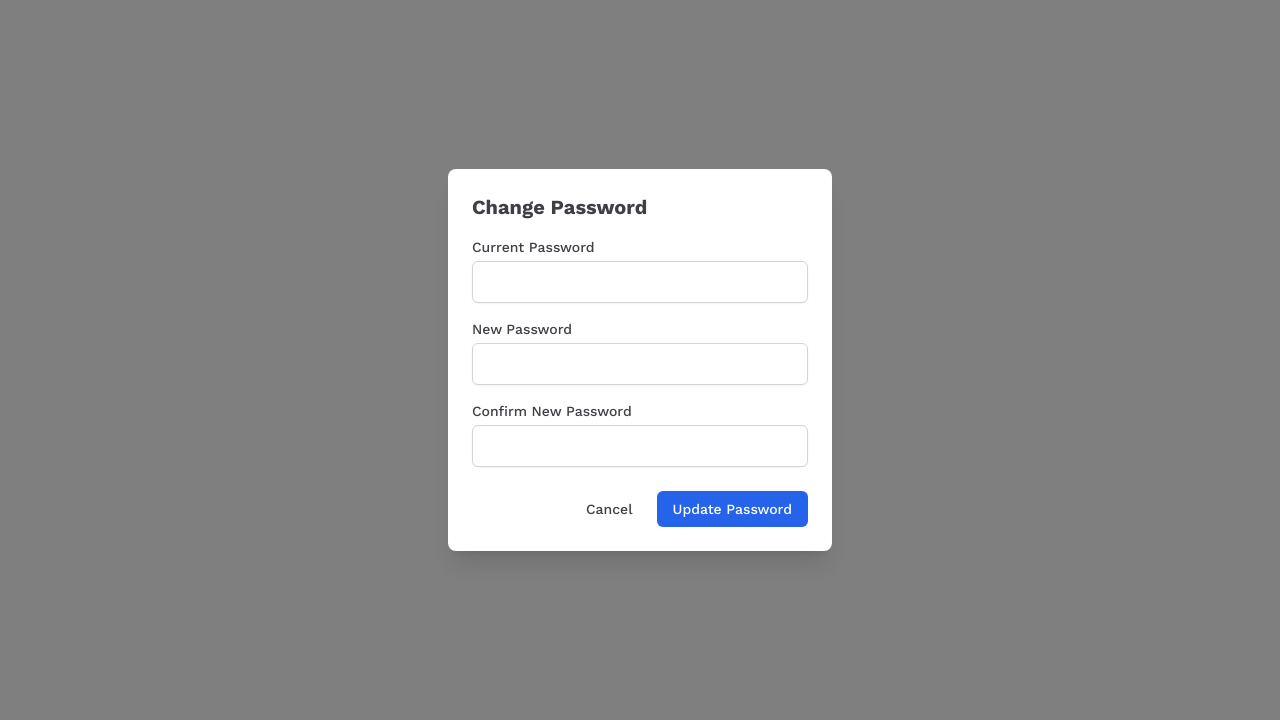
Test: PasswordChangeModal › validates password match
Type "current123" into the password field below "Current Password" at coordinates (640, 282), box [472,261,808,303]
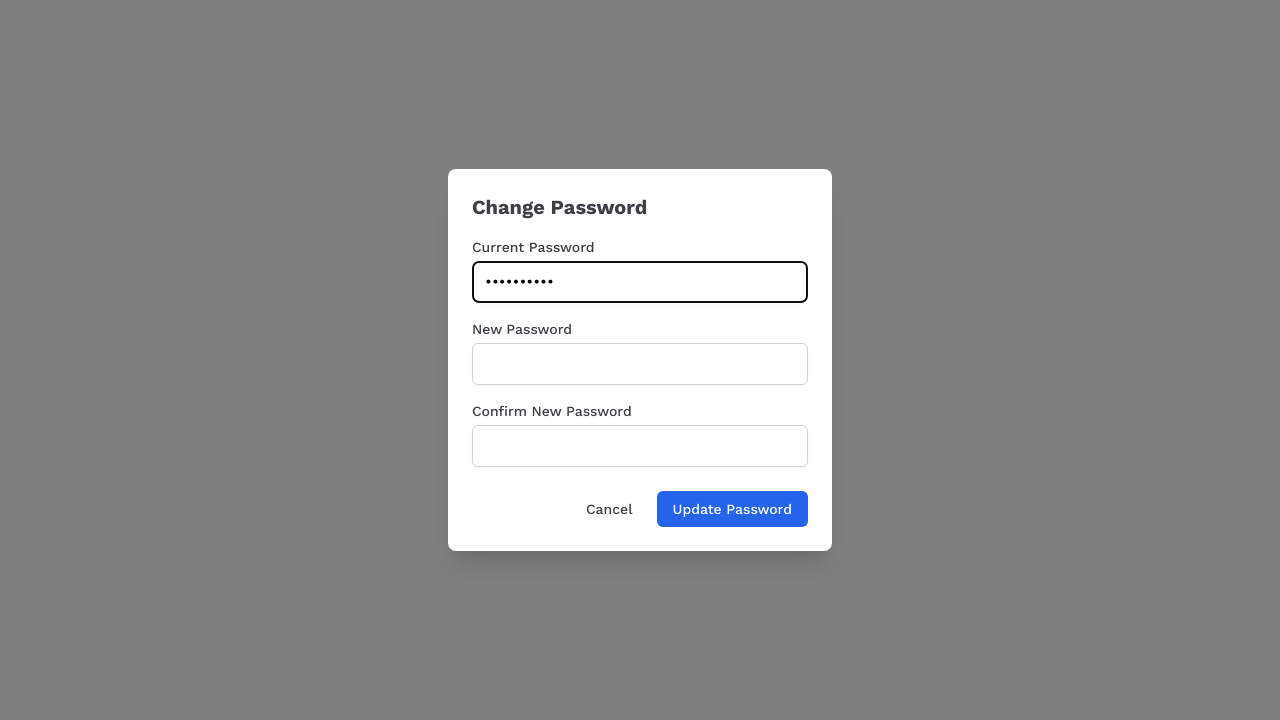
Type "new123" into the 2nd password field at coordinates (640, 364), box [472,343,808,385]
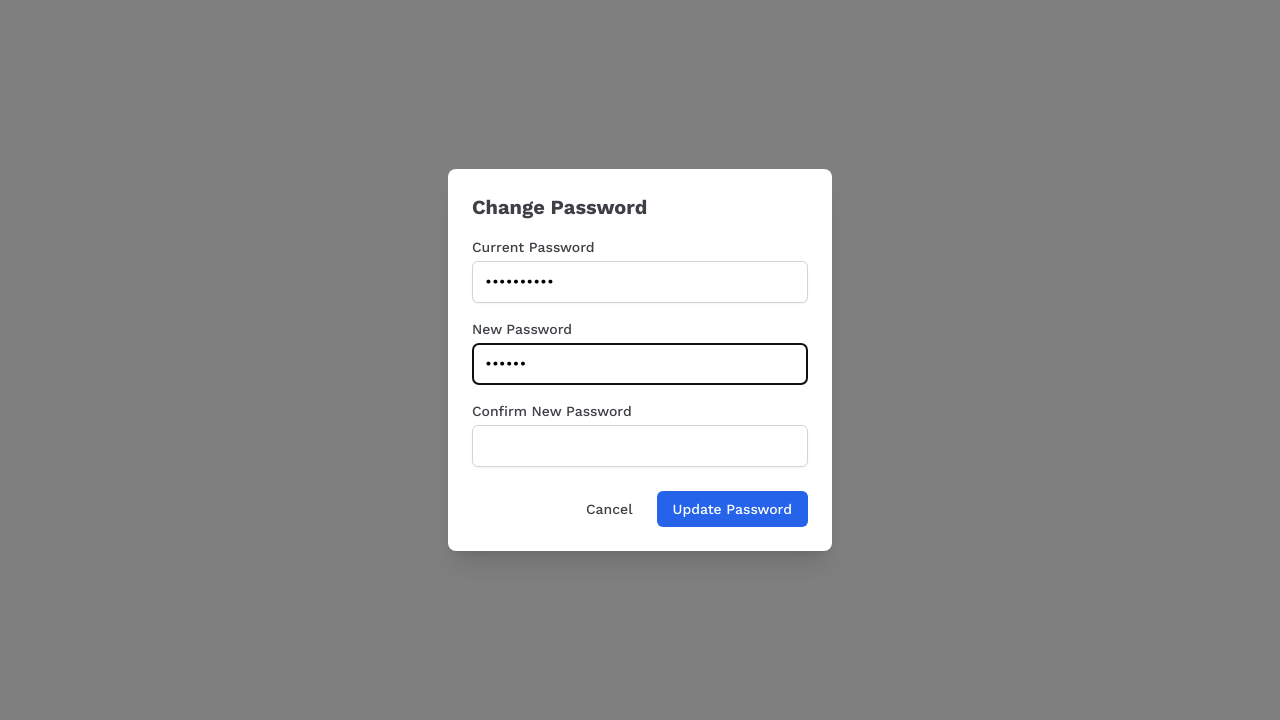
Type "different" into the password field below "Confirm New Password" at coordinates (640, 446), box [472,425,808,467]
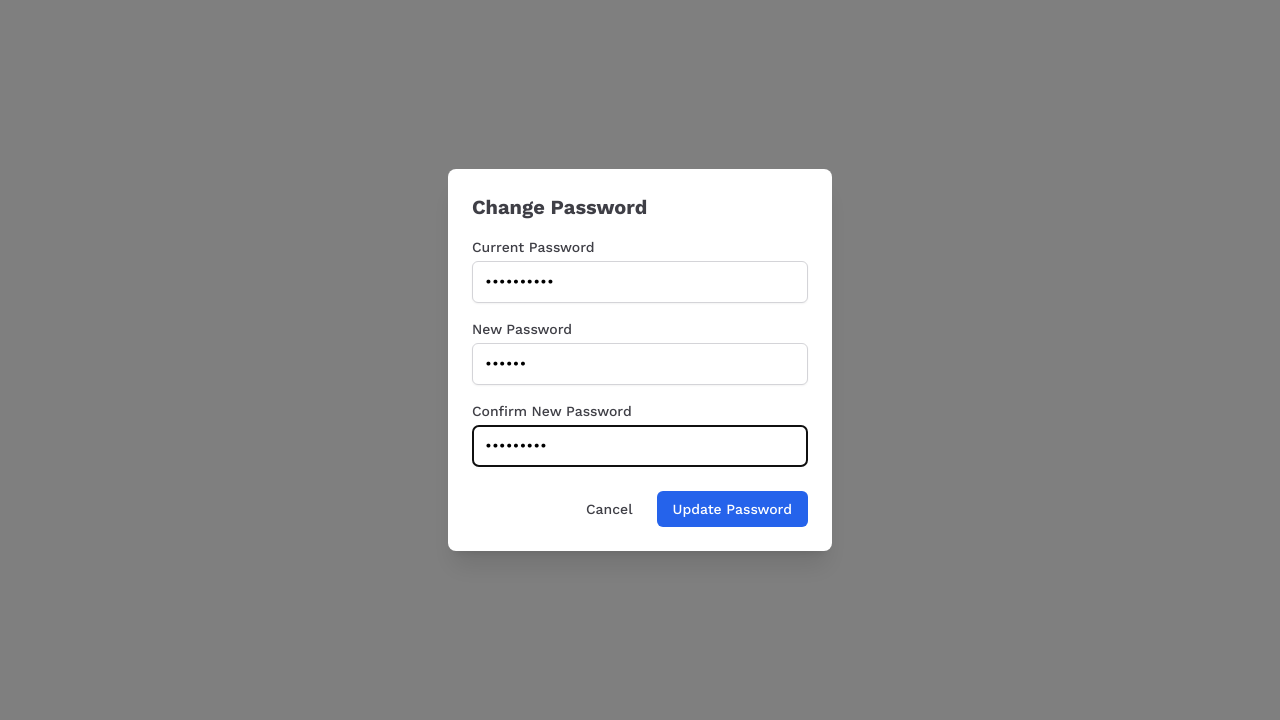
Click the button "Update Password" at coordinates (732, 509), box [656,491,808,527]
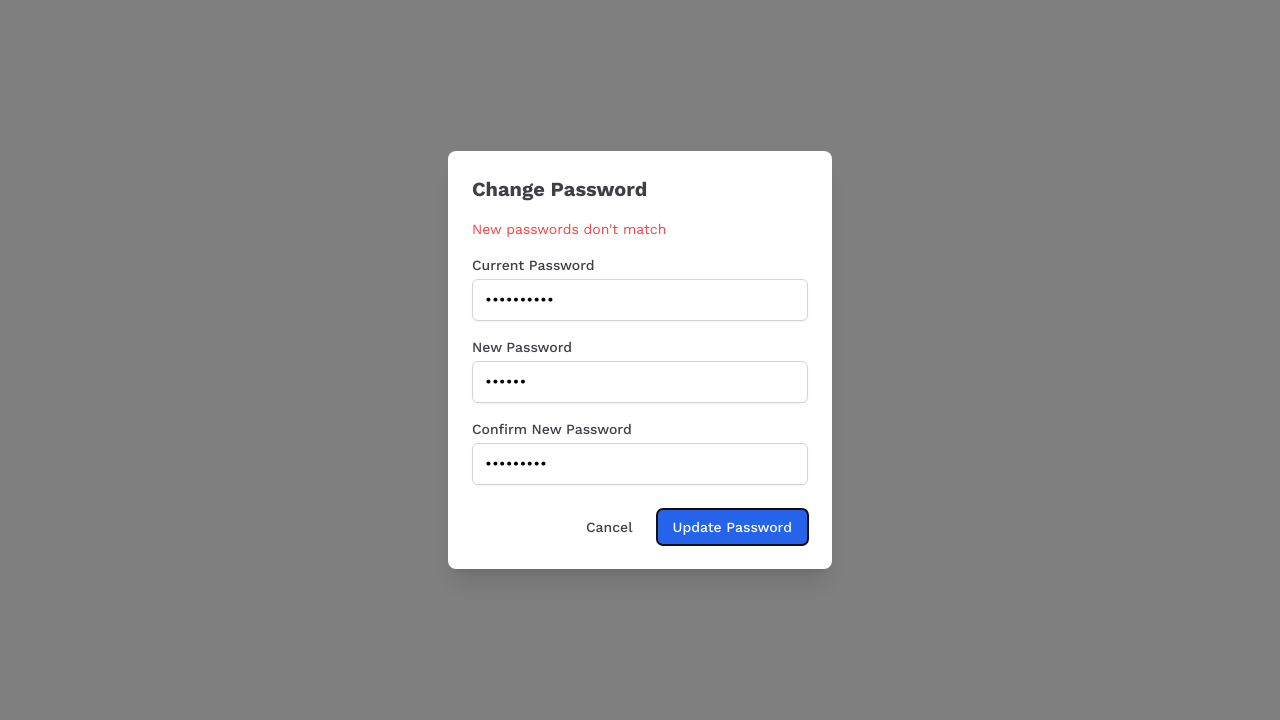
Check: the text "New passwords don't match" is shown, box [472,221,666,237]
